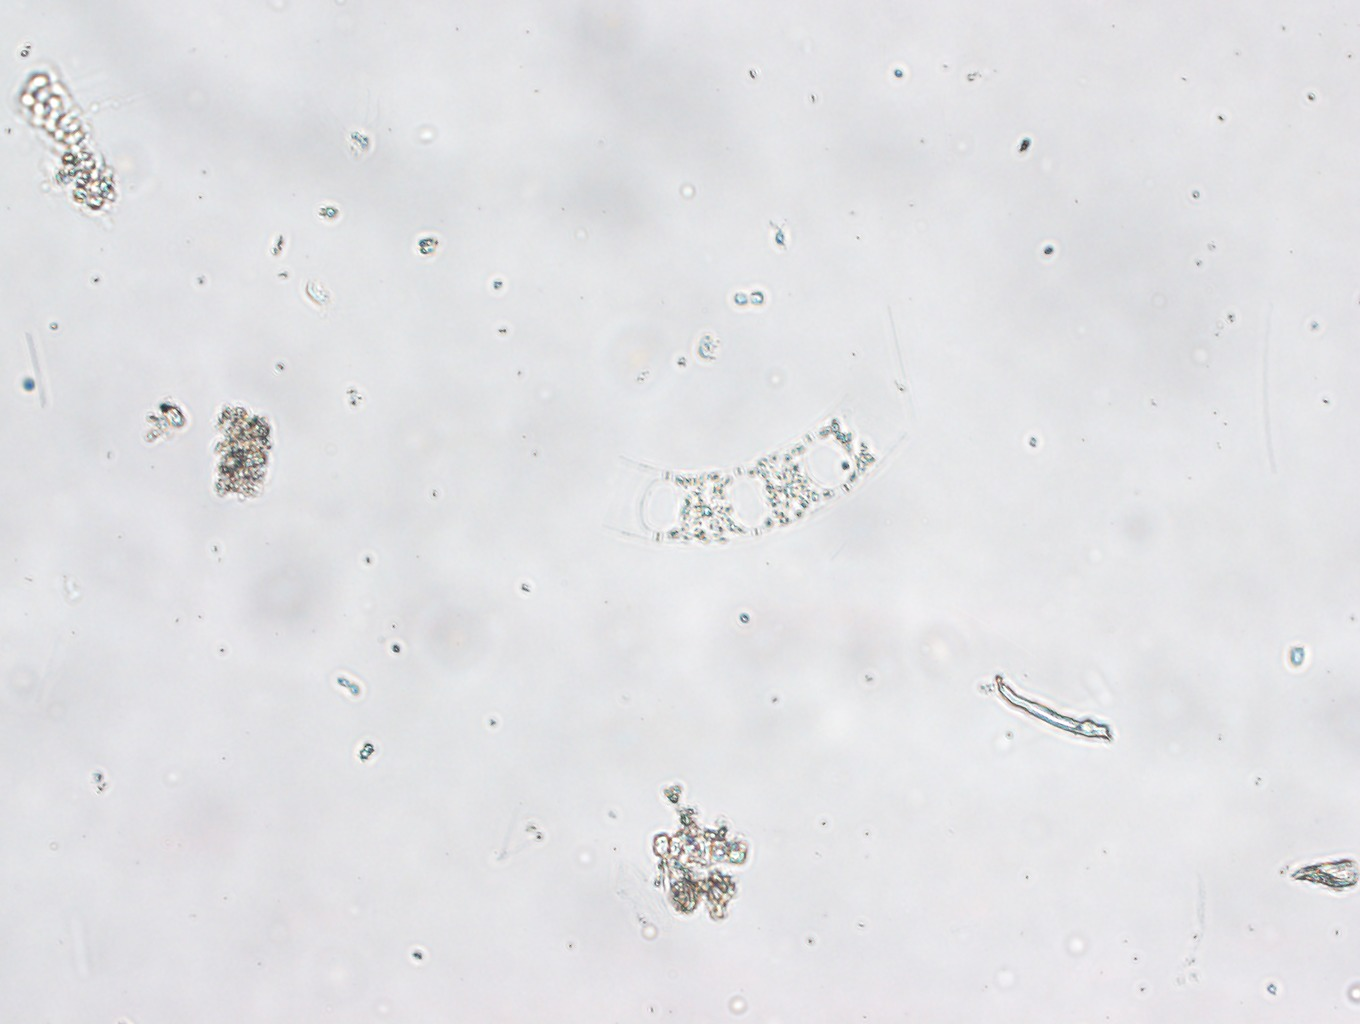eucampia: (615, 392, 899, 561)
